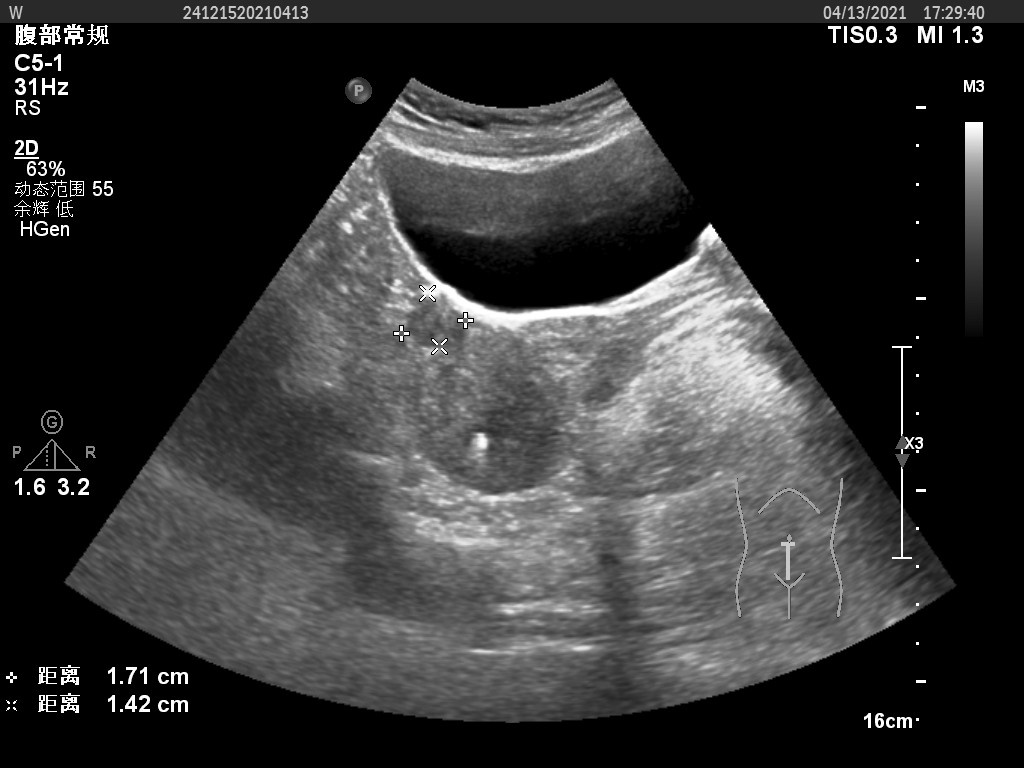肌瘤: (401, 291, 467, 347)
